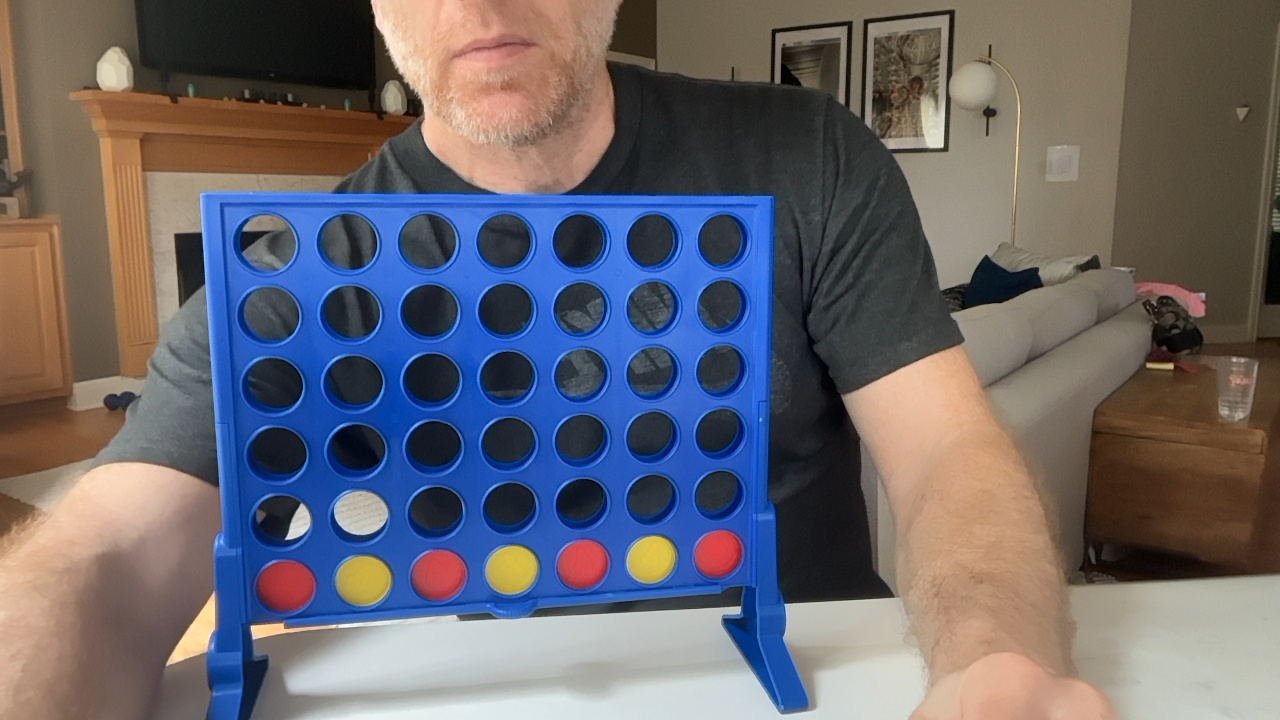red piece: (256, 560, 315, 613), (411, 550, 467, 601), (557, 540, 608, 590), (694, 530, 743, 578)
yellow piece: (335, 555, 391, 606), (485, 545, 537, 595), (627, 535, 675, 584)
